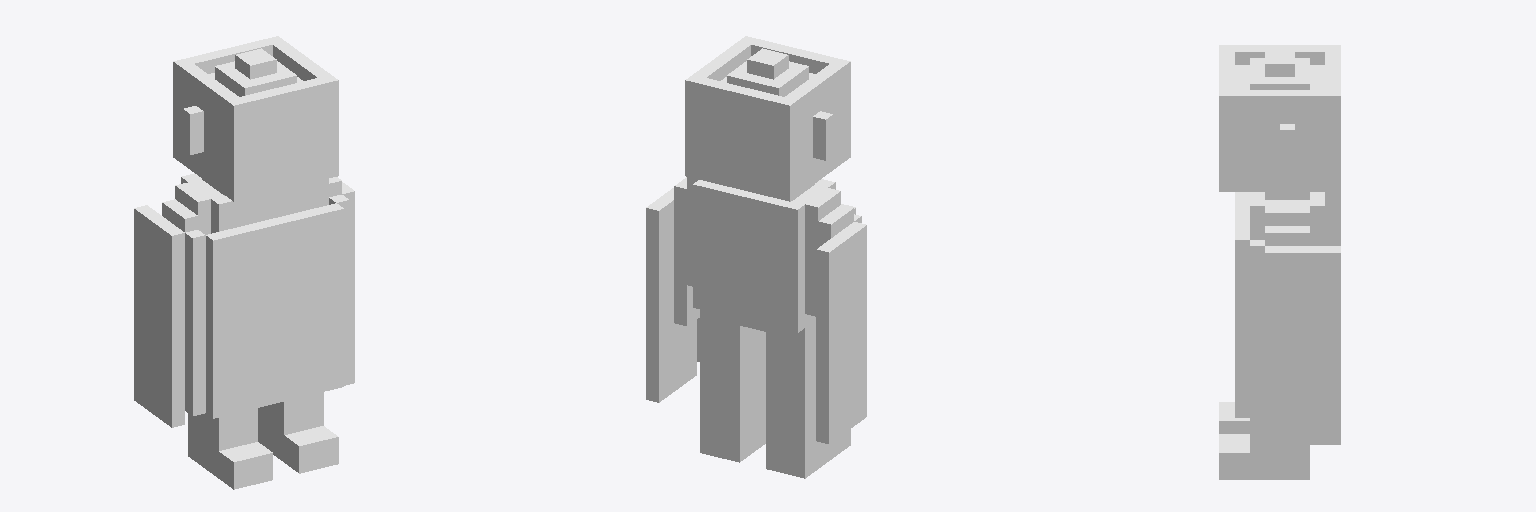
Rendered from subject.obj.
The picture shows the model from 3 angles: view 1: azimuth 30°, elevation 25°; view 2: azimuth 150°, elevation 25°; view 3: azimuth 270°, elevation 25°; orthographic projection.
Parts seen in each view (by area): view 1: object 1; view 2: object 1; view 3: object 1.
Part boxes in pixels (x1,y1,x2,y2): object 1: (134,36,354,489); object 1: (646,36,866,478); object 1: (1219,45,1340,479).
Bounding box in the file's own units: 1.4 × 2.9 × 0.8.